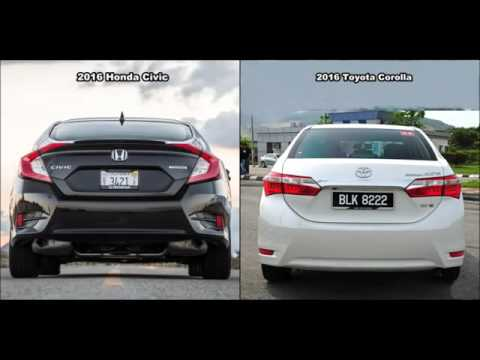car: (9, 116, 233, 276), (257, 125, 466, 282)
